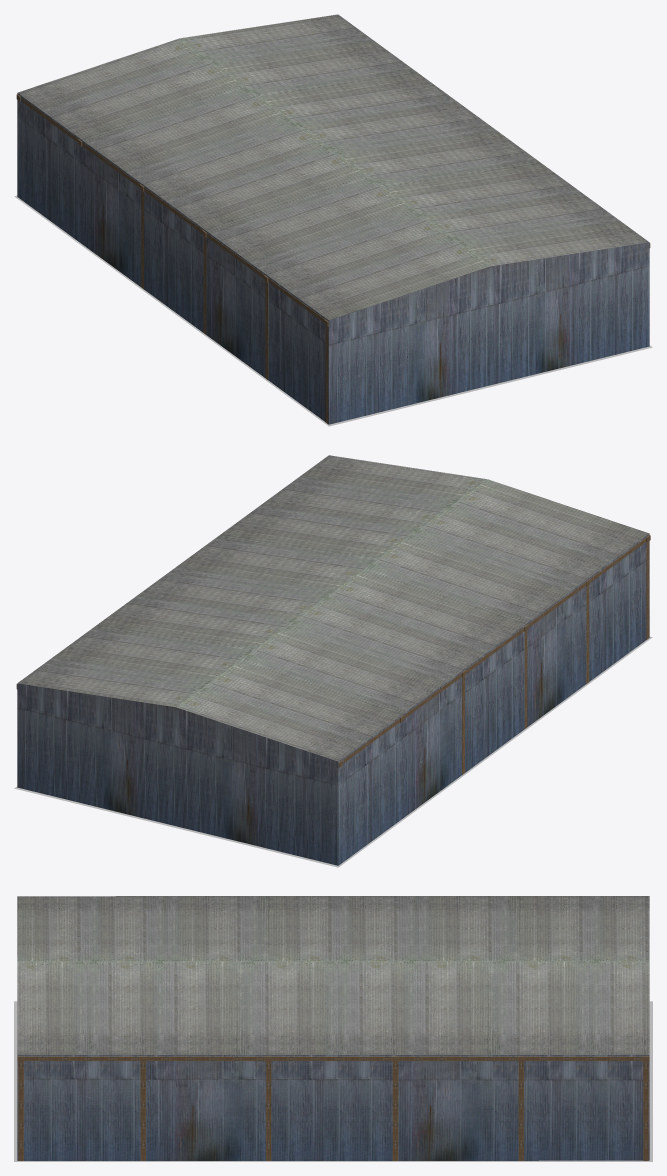
Rendered from fuel_pod.fbx.
3 views of the same model, one above another, from view 1: azimuth 30°, elevation 25°; view 2: azimuth 150°, elevation 25°; view 3: azimuth 270°, elevation 25° (orthographic).
Visible parts, largest first — view 1: roof, $walls, $floor, rafters, $columns; view 2: roof, $walls, $floor, rafters, $columns; view 3: roof, $walls, $columns, rafters, $floor.
Part boxes in pixels (x1=…): roof: x1=17, y1=14, x2=648, y2=320; $walls: x1=17, y1=93, x2=649, y2=424; $floor: x1=14, y1=195, x2=652, y2=426; rafters: x1=16, y1=94, x2=650, y2=326; $columns: x1=141, y1=191, x2=328, y2=423; roof: x1=18, y1=455, x2=649, y2=761; $walls: x1=17, y1=534, x2=649, y2=865; $floor: x1=14, y1=636, x2=652, y2=867; rafters: x1=16, y1=535, x2=650, y2=767; $columns: x1=462, y1=541, x2=649, y2=774; roof: x1=17, y1=896, x2=649, y2=1054; $walls: x1=17, y1=1055, x2=649, y2=1160; $columns: x1=18, y1=1061, x2=648, y2=1160; rafters: x1=17, y1=1056, x2=649, y2=1061; $floor: x1=14, y1=1001, x2=652, y2=1161.
Size of the model in its own units: 5662 by 9514 by 1988.
